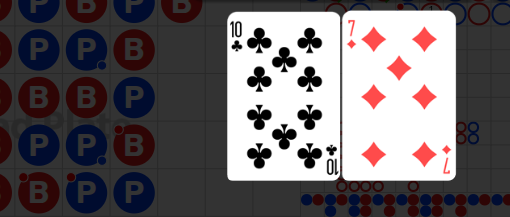10C: (230, 20, 246, 54)
7D: (441, 143, 452, 175)
